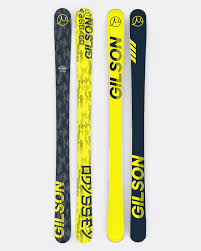skis: (48, 7, 94, 244), (105, 8, 148, 243)
